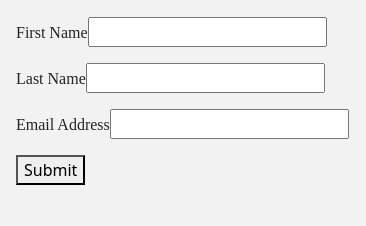
Test: SignupForm Validation › should show error for long first names (bad data)
Type "ThisNameIsWayTooLongForTheSchema" into the field labelled "First Name".
click(207, 32); type("ThisNameIsWayTooLongForTheSchema")  # box [88,17,326,47]
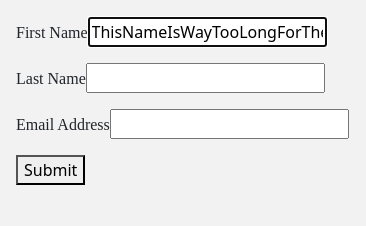
Leave the field labelled "First Name", box [88,17,326,47]
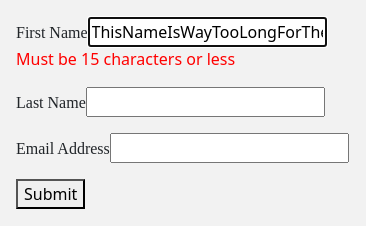
Result: the text "Must be 15 characters or less" is shown at [16,48,235,70]
